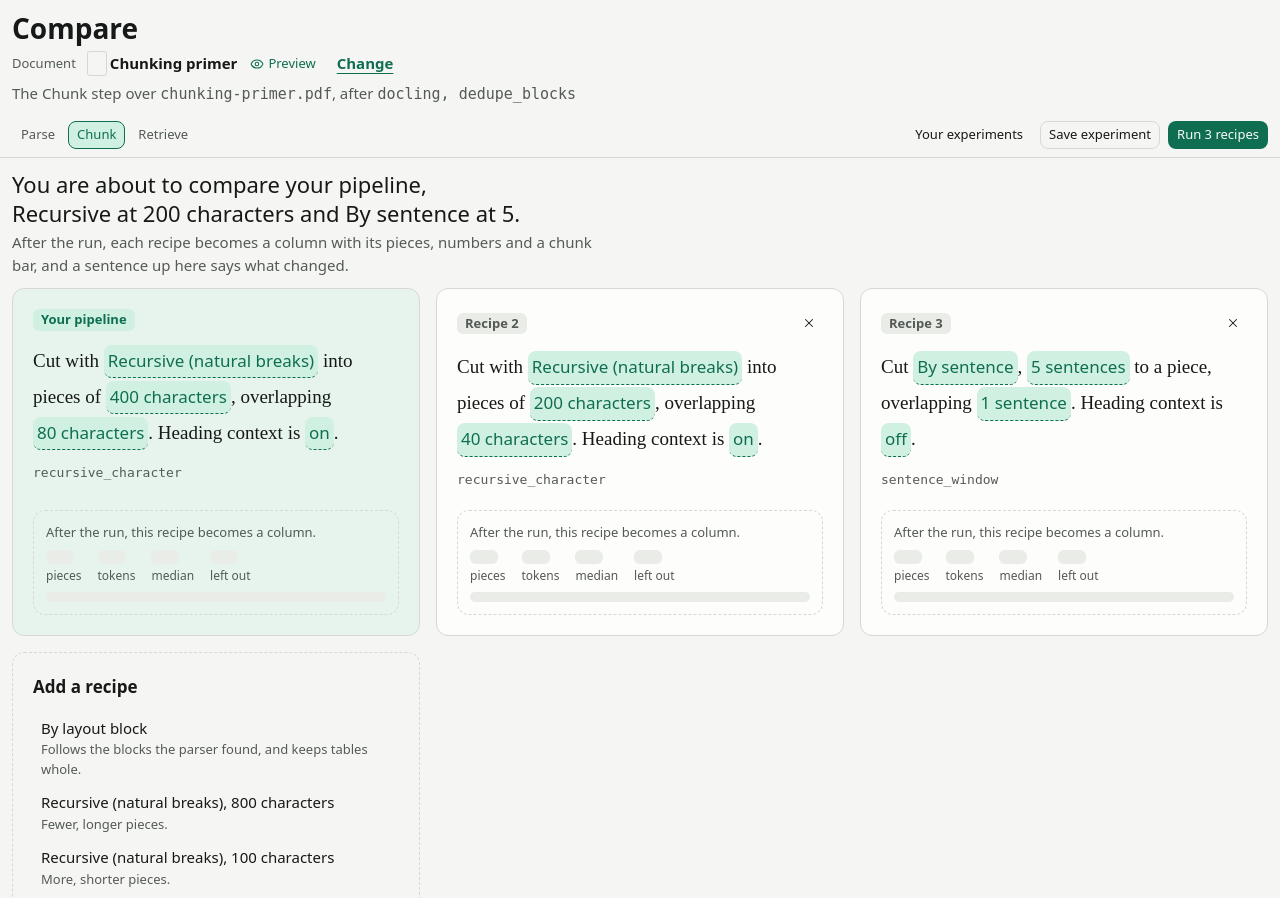
Compare's recipes › names strategies as Build does in the strategy editor, and gives the fields sentence-case titles
The width and height of the screenshot is (1280, 898).
Click the button with aria-label "Change the strategy" at (635, 368), box [528,351,742,385]
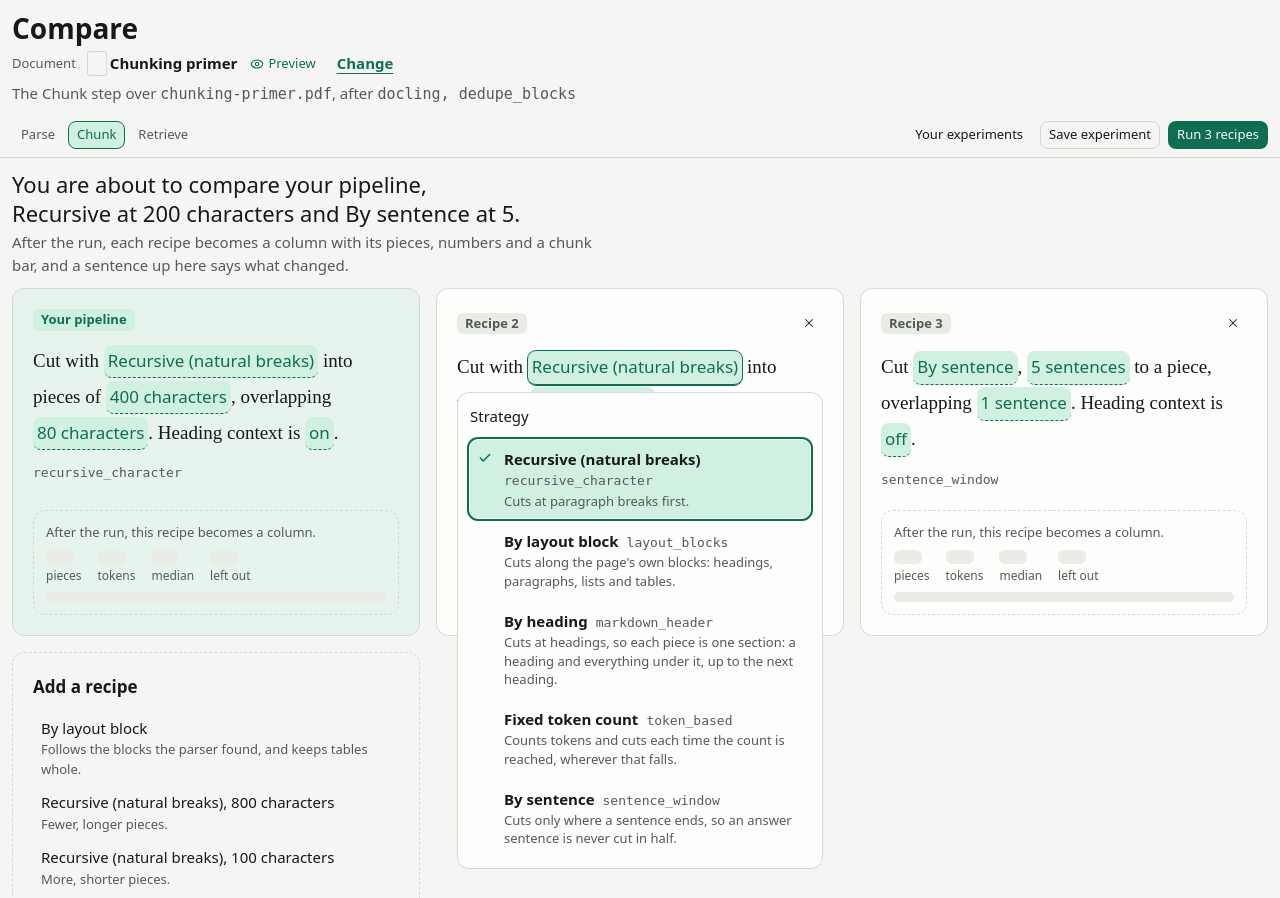
Check: the 4th icon is shown, box [478,451,492,465]
Check: the button "By heading markdown_header" shows "Cuts at headings, so each piece is one section: a heading and everything under it, up to the next heading."
Click the button "By heading markdown_header" at (640, 649), box [470,602,810,696]
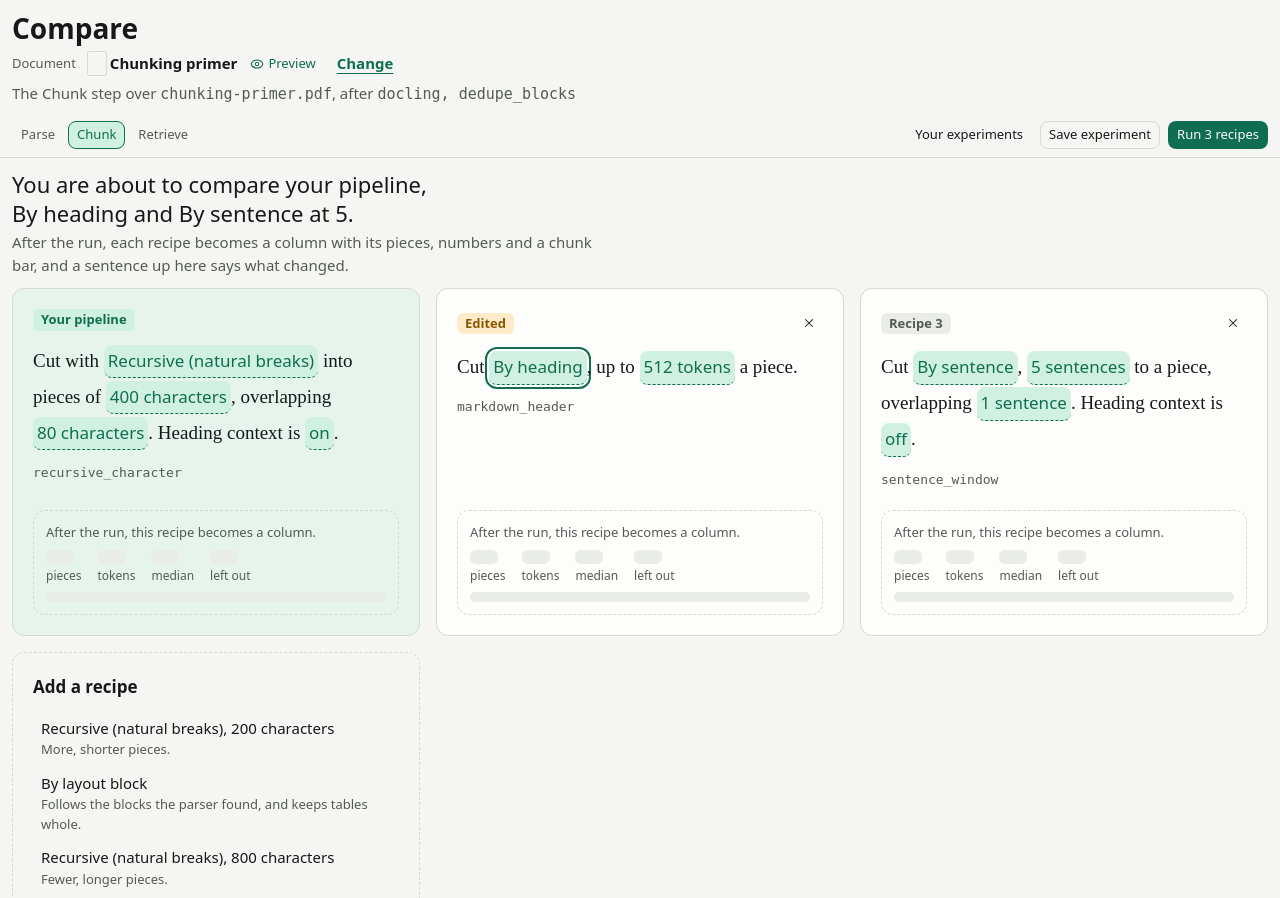
Check: the text with test id "recipe-code" reads "markdown_header", box [457,399,574,414]
Click the button with aria-label "Change sentences per chunk" at (1078, 368), box [1027,351,1130,385]
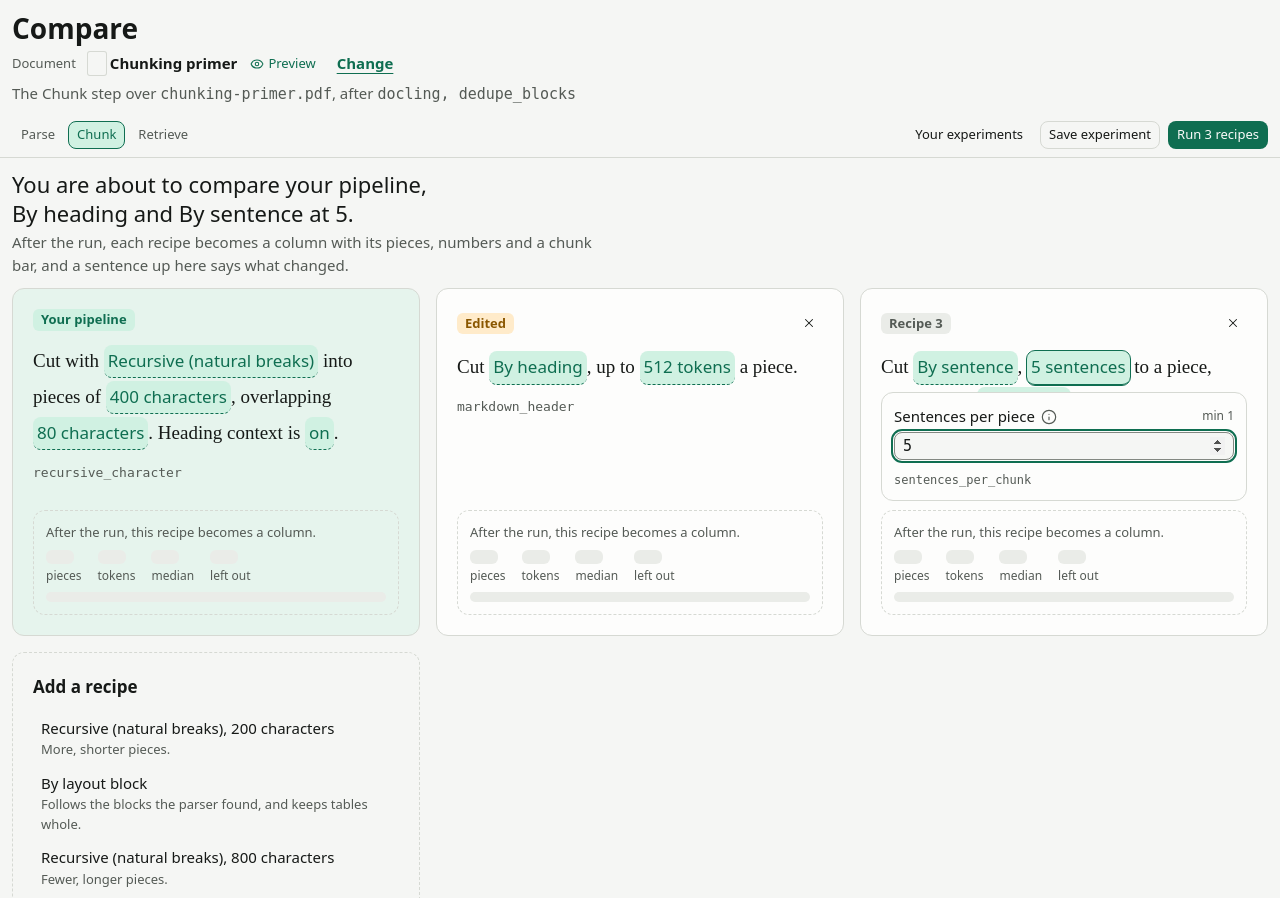
Check: the number field labelled "Sentences per piece" is shown, box [894,432,1234,460]
Click the button "Parse" at (38, 135), box [12,121,64,149]
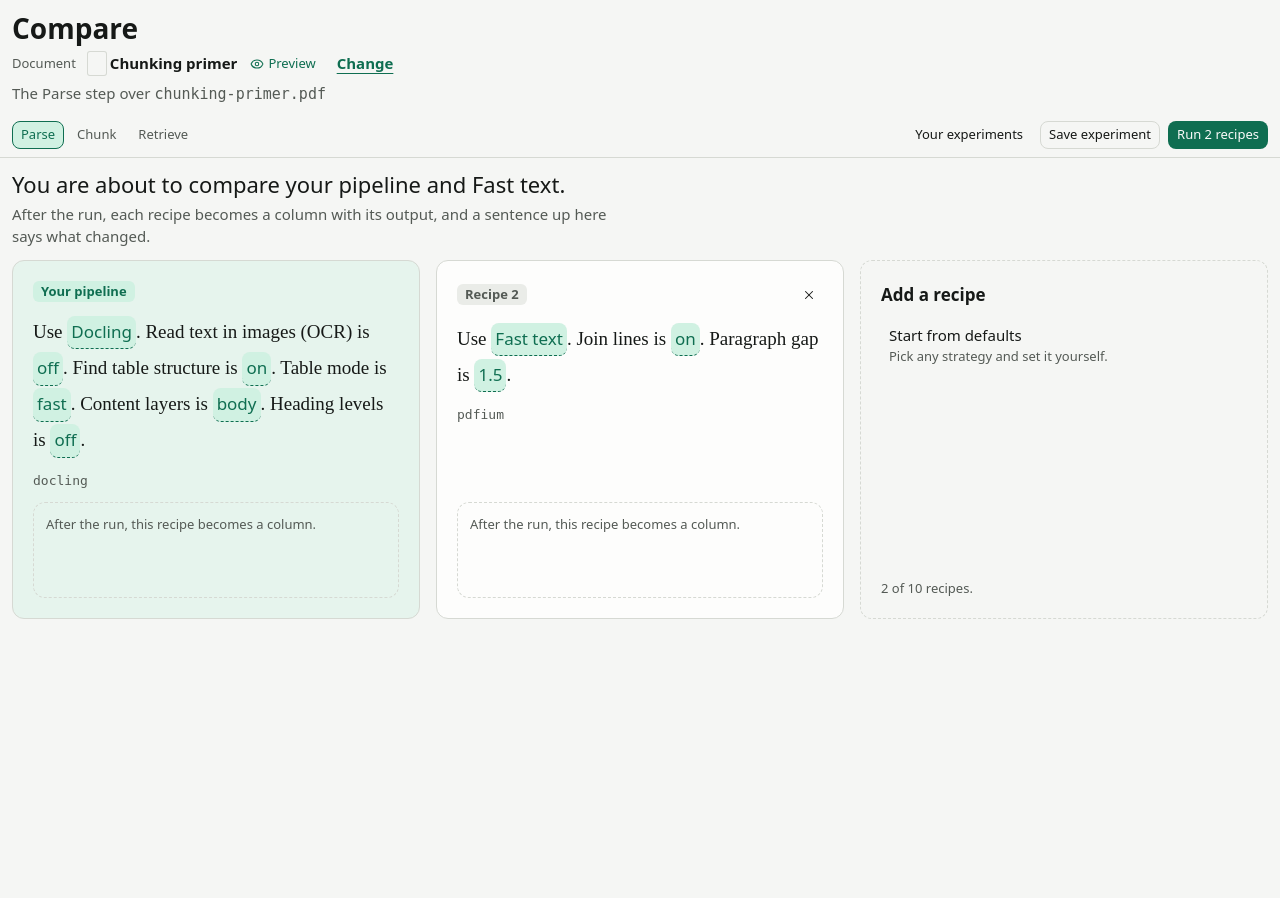
Click the button with aria-label "Change do ocr" at (48, 369), box [33,352,63,386]
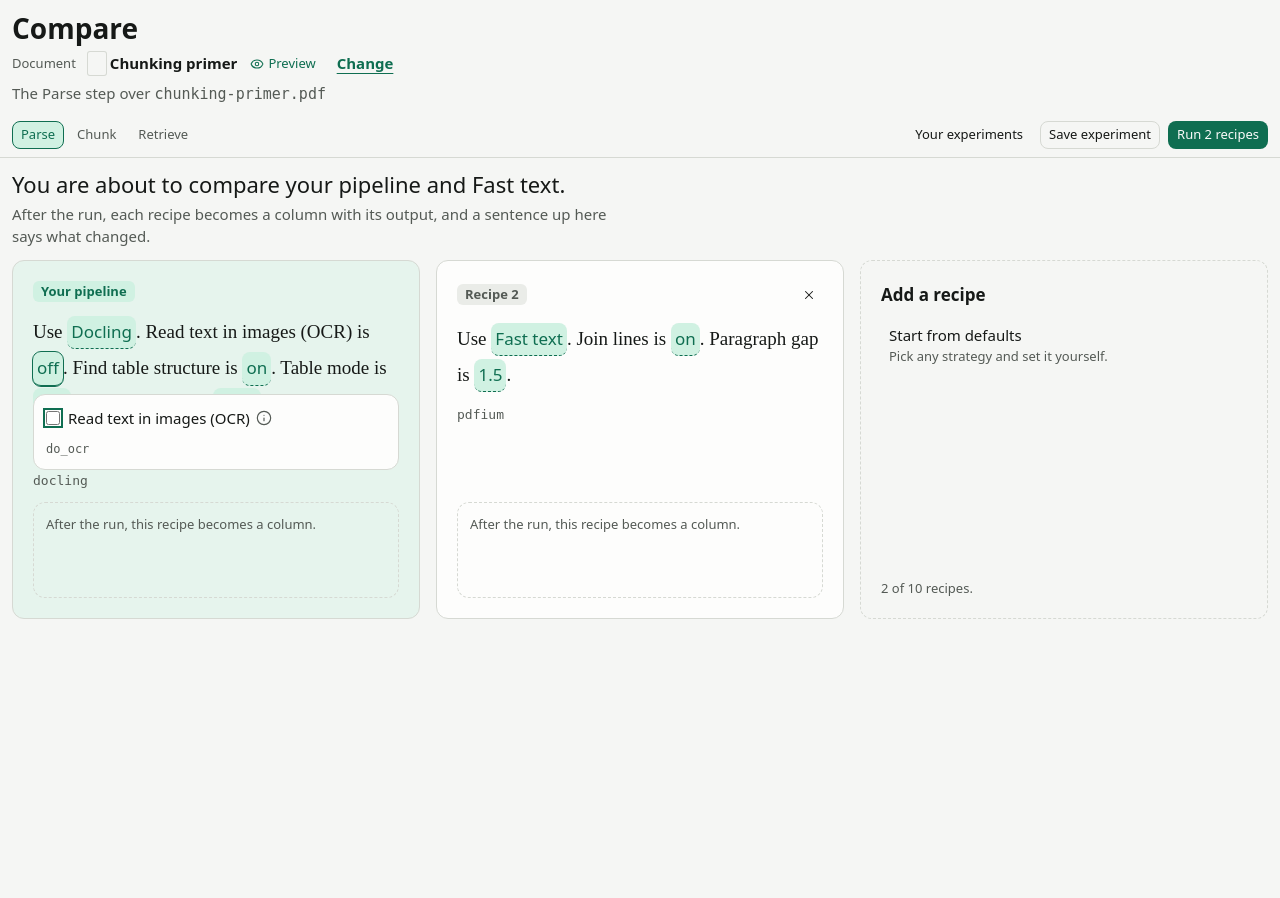
Check: the checkbox labelled "Read text in images (OCR)" is shown, box [46,411,60,425]
